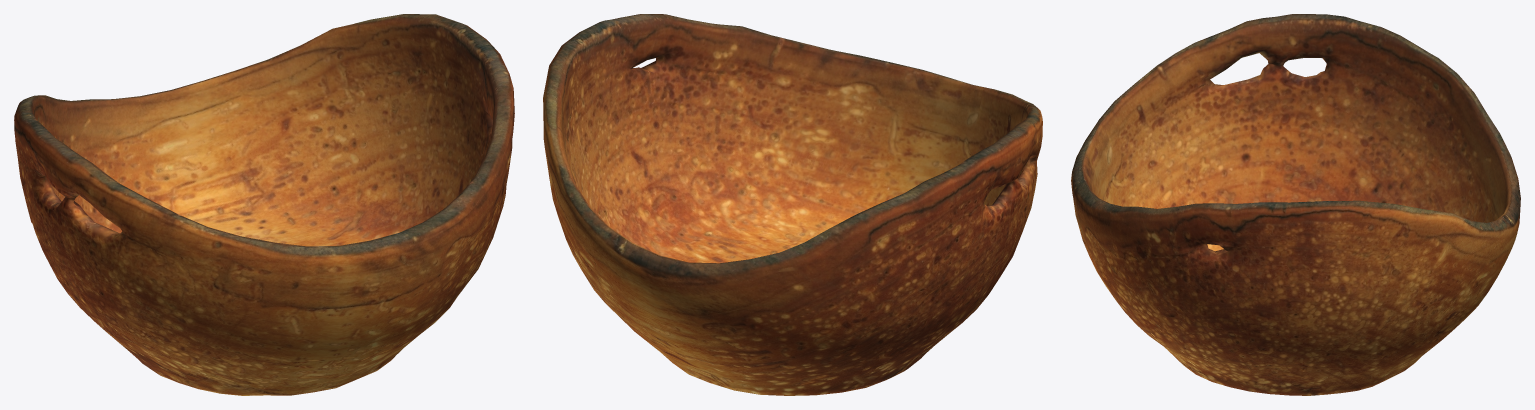
File: wooden_bowl_02.glb
3 renders of one model, left to right at view 1: azimuth 30°, elevation 25°; view 2: azimuth 150°, elevation 25°; view 3: azimuth 270°, elevation 25°, orthographic. The views are drawn at different scales.
Visible parts, largest first — view 1: wooden_bowl_02; view 2: wooden_bowl_02; view 3: wooden_bowl_02.
Boxes of the visible parts, x1=… form: wooden_bowl_02: x1=14, y1=14, x2=514, y2=395; wooden_bowl_02: x1=543, y1=14, x2=1042, y2=395; wooden_bowl_02: x1=1071, y1=14, x2=1520, y2=395.
Bounding box in the file's own units: 0.1307 × 0.0731 × 0.1245.
Materials: 1 (1 with a texture image).
